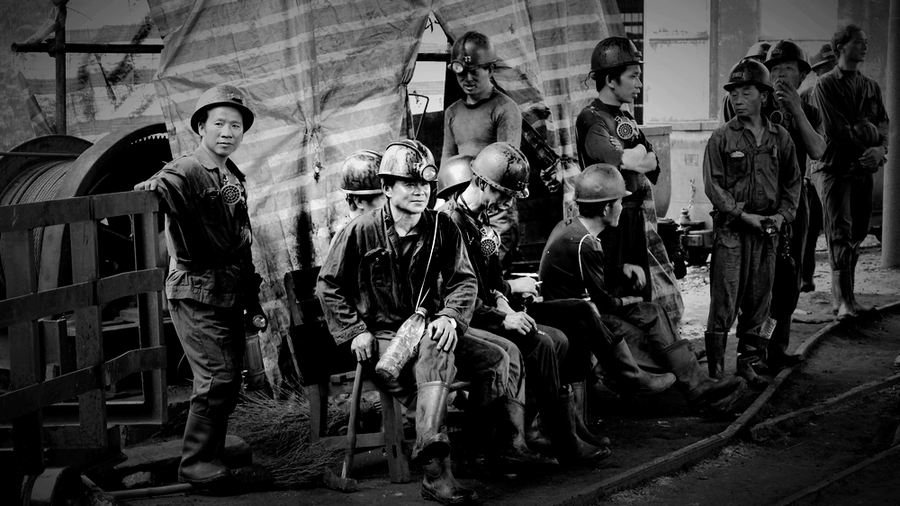helmet: (187, 78, 256, 156), (586, 35, 650, 106), (379, 137, 430, 219)
